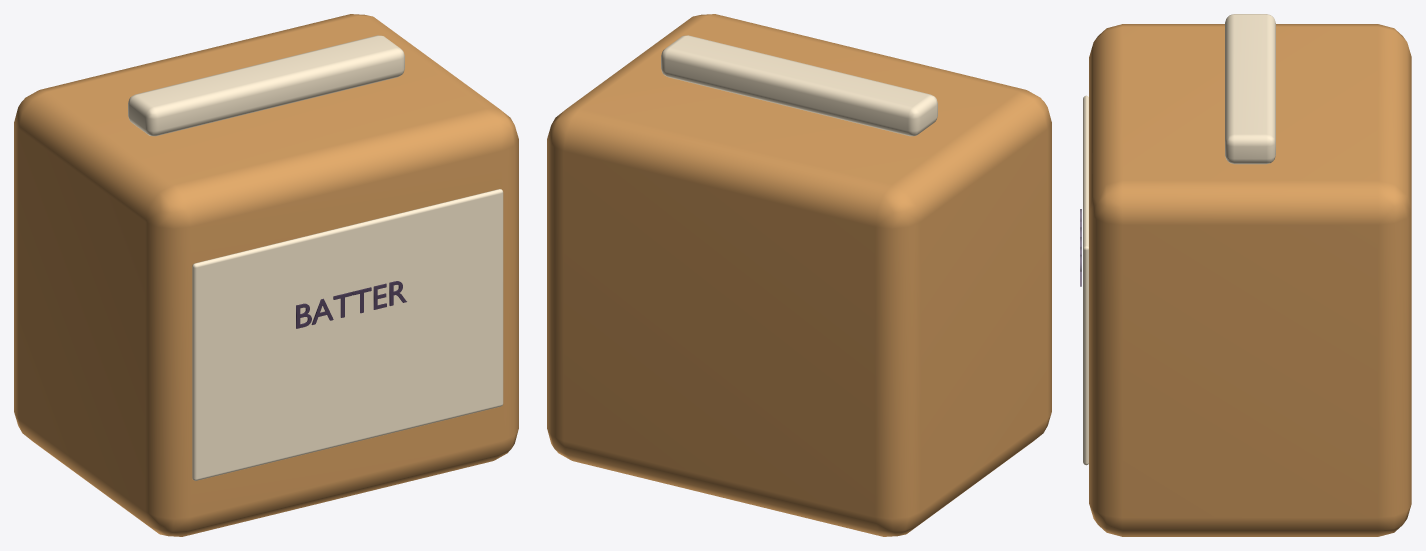
Rendered from Batter_refill_carton.fbx.
The picture shows the model from 3 angles, left to right: view 1: azimuth 30°, elevation 25°; view 2: azimuth 150°, elevation 25°; view 3: azimuth 270°, elevation 25°; orthographic projection.
Visible parts, largest first — view 1: Toon_Batter_refill_carton Rounded refill package.001, Toon_Batter_refill_carton Cream paper label.001, Toon_Batter_refill_carton Folded seal.001, Package contents.008; view 2: Toon_Batter_refill_carton Rounded refill package.001, Toon_Batter_refill_carton Folded seal.001; view 3: Toon_Batter_refill_carton Rounded refill package.001, Toon_Batter_refill_carton Folded seal.001, Toon_Batter_refill_carton Cream paper label.001.
Boxes of the visible parts, left/top/right/bottom form: Toon_Batter_refill_carton Rounded refill package.001: left=14, top=14, right=518, bottom=536; Toon_Batter_refill_carton Cream paper label.001: left=192, top=189, right=503, bottom=480; Toon_Batter_refill_carton Folded seal.001: left=128, top=35, right=404, bottom=136; Package contents.008: left=296, top=281, right=406, bottom=328; Toon_Batter_refill_carton Rounded refill package.001: left=547, top=14, right=1051, bottom=536; Toon_Batter_refill_carton Folded seal.001: left=661, top=35, right=937, bottom=136; Toon_Batter_refill_carton Rounded refill package.001: left=1089, top=24, right=1411, bottom=536; Toon_Batter_refill_carton Folded seal.001: left=1225, top=14, right=1275, bottom=164; Toon_Batter_refill_carton Cream paper label.001: left=1083, top=95, right=1088, bottom=465.
Size of the model in its own units: 32 by 31.4 by 24.66.
